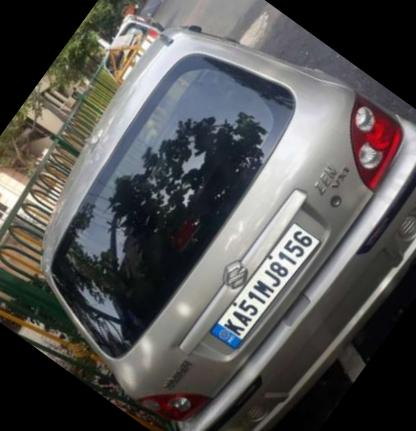plate: (200, 210, 336, 367)
